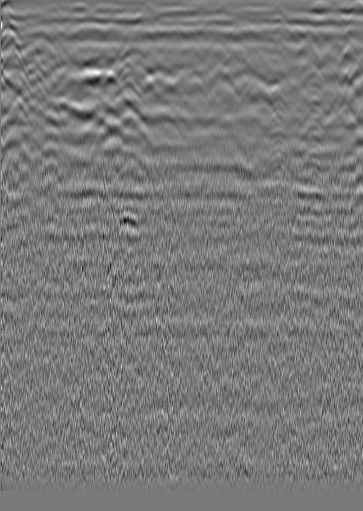가스: (106, 208, 146, 238)
상수: (29, 25, 49, 45)
오수: (290, 27, 310, 47)
우수: (179, 27, 199, 47)
